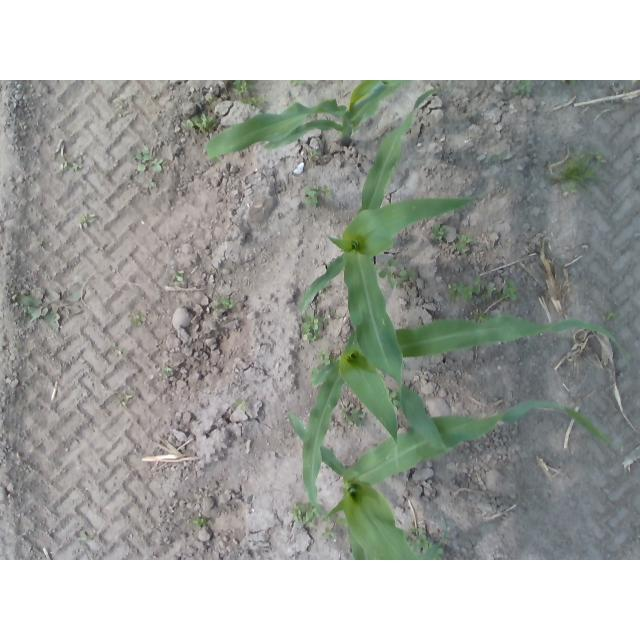Maize: (301, 315, 629, 530), (297, 88, 447, 453), (281, 398, 616, 560), (206, 80, 403, 161)
Weeds: (18, 285, 87, 333), (549, 152, 594, 184), (380, 260, 404, 284), (448, 283, 478, 302), (301, 317, 321, 342), (305, 187, 331, 206), (133, 147, 150, 173), (475, 275, 493, 299), (342, 408, 362, 426), (456, 235, 473, 255), (196, 115, 215, 132), (292, 506, 312, 522), (412, 530, 429, 548), (504, 279, 516, 299), (516, 82, 532, 97), (235, 82, 249, 98), (151, 158, 165, 173), (82, 214, 96, 228), (432, 226, 445, 240), (193, 518, 213, 527), (401, 267, 415, 279), (322, 529, 338, 539), (74, 155, 85, 169), (251, 95, 265, 106), (563, 183, 577, 194), (175, 269, 185, 283), (307, 150, 321, 160), (595, 152, 606, 164), (323, 350, 333, 363), (221, 301, 232, 312), (209, 97, 220, 108), (474, 311, 486, 320), (137, 315, 148, 324), (604, 312, 614, 321), (110, 343, 118, 354), (186, 119, 194, 129), (290, 80, 306, 85), (562, 80, 576, 85), (118, 400, 127, 407), (164, 367, 172, 374), (123, 393, 131, 400)
